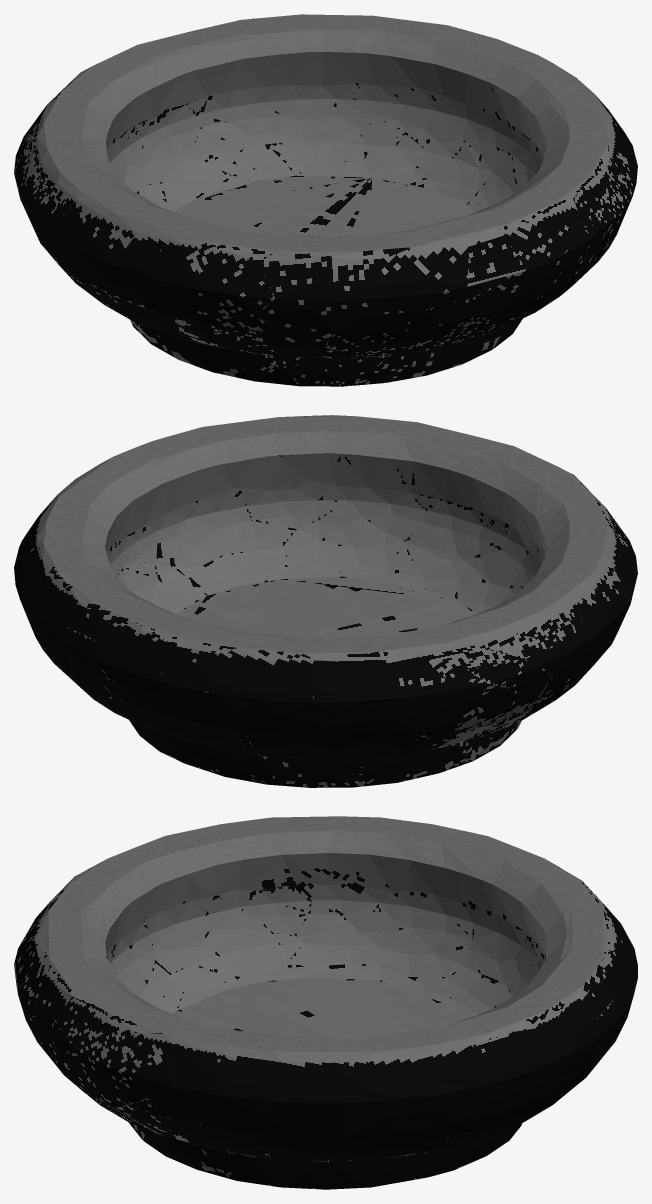
3 renders of one model, top to bottom at view 1: azimuth 30°, elevation 25°; view 2: azimuth 150°, elevation 25°; view 3: azimuth 270°, elevation 25°, orthographic.
Visible parts, largest first — view 1: OBJ08e; view 2: OBJ08e; view 3: OBJ08e.
Part boxes in pixels (<box>): OBJ08e: <box>14,14,637,386</box>; OBJ08e: <box>14,415,637,787</box>; OBJ08e: <box>14,816,637,1189</box>.
Bounding box in the file's own units: 0.28 × 0.0839 × 0.2799.
Materials: 1 (1 with a texture image).
